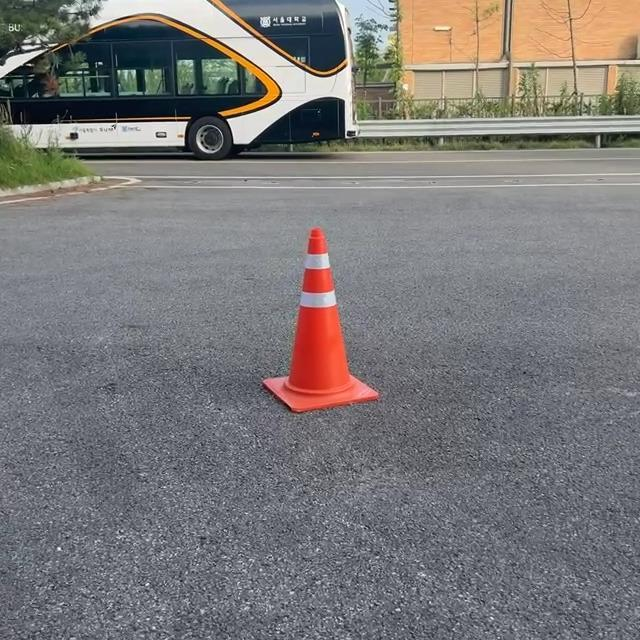fallen_object: (252, 217, 377, 438)
